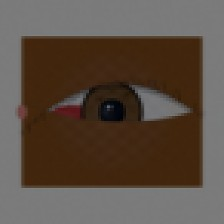hemorrhage_spot: (37, 91, 111, 150)
